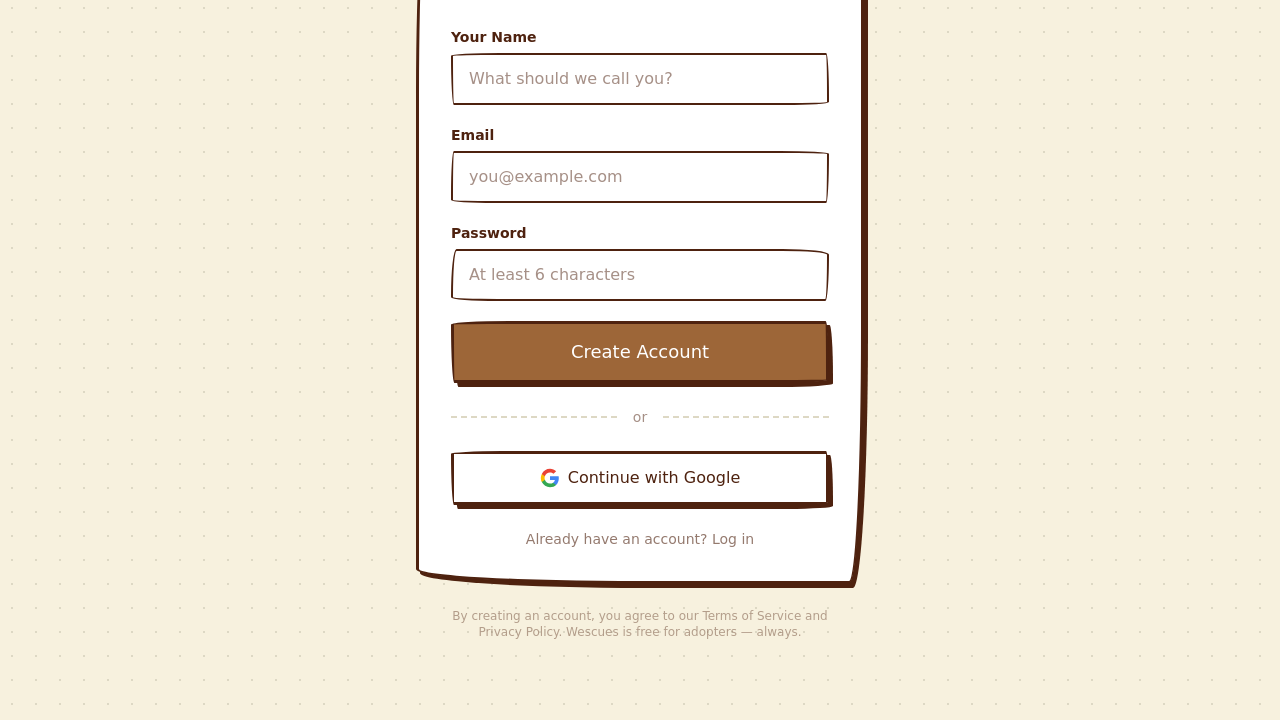
Signup Page › displays error when Google OAuth fails
This screenshot has width=1280, height=720.
(page scrolled)
Click the button "Continue with Google".
click(640, 478)  # box left=451, top=451, right=829, bottom=505
(page scrolled)
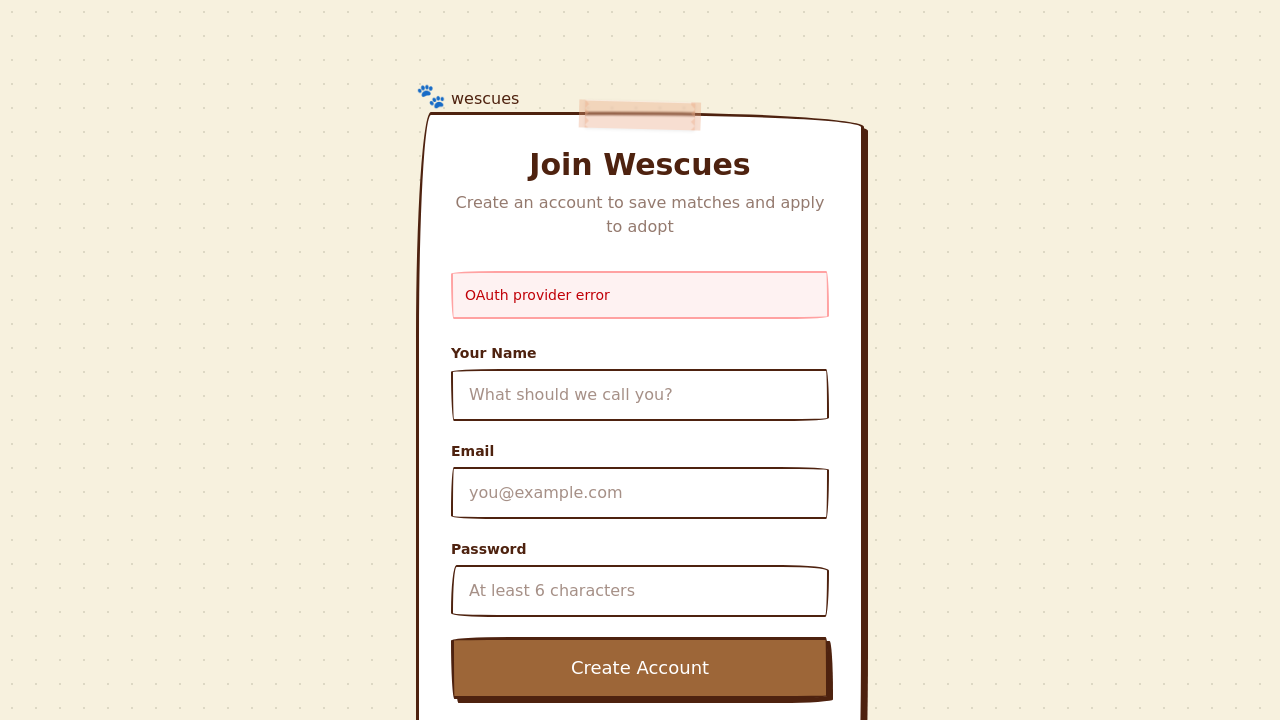
Expected: the text "OAuth provider error" is shown, left=451, top=271, right=829, bottom=319
